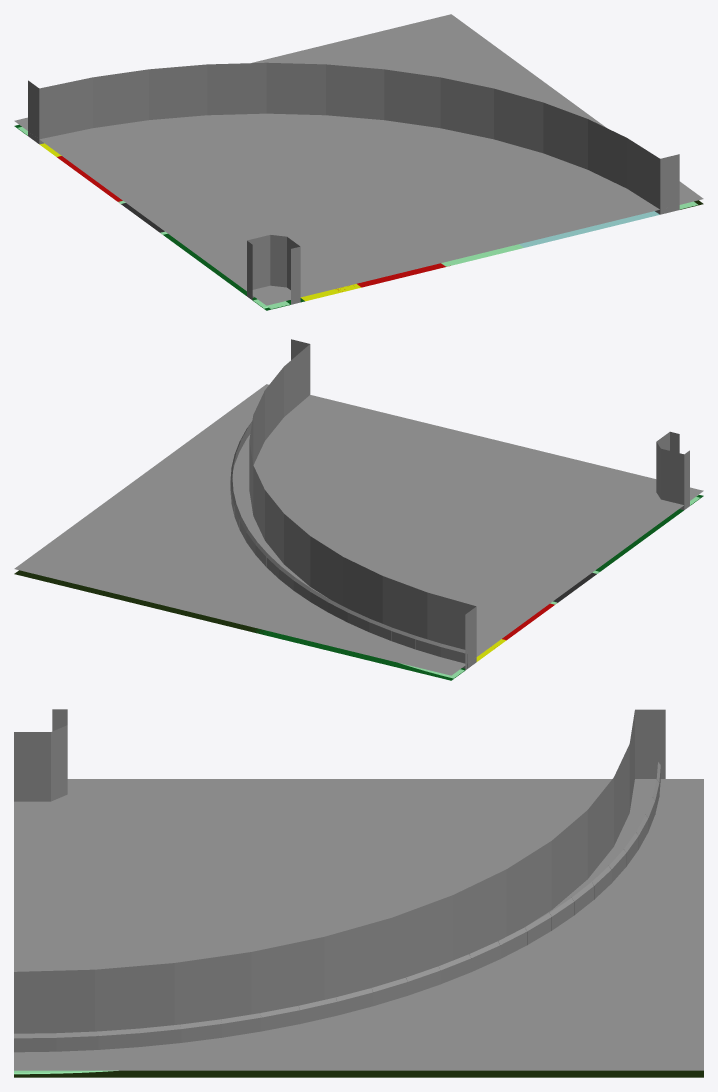
The model's file is RT TURN V01 T02 QRT SNAP.FBX.
3 views of the same model, one above another, from view 1: azimuth 30°, elevation 25°; view 2: azimuth 150°, elevation 25°; view 3: azimuth 270°, elevation 25° (orthographic). The views are drawn at different scales.
Visible parts, largest first — view 1: RT TURN V01 T02 QRT SNAP, RT TURN V01 T02 COLL OUT, RT TURN V01 T02 COLL IN, RT TURN V01 T02 HI, RT TURN V01 T02 NAV ColAsp C01-C02, RT TURN V01 T02 NAV Grass, RT TURN V01 T02 LOW; view 2: RT TURN V01 T02 QRT SNAP, RT TURN V01 T02 COLL OUT, RT TURN V01 T02 Fence Shared, RT TURN V01 T02 COLL IN, RT TURN V01 T02 NAV Grass, RT TURN V01 T02 RubW LOW, RT TURN V01 T02 HI; view 3: RT TURN V01 T02 QRT SNAP, RT TURN V01 T02 COLL OUT, RT TURN V01 T02 Fence Shared, RT TURN V01 T02 HI, RT TURN V01 T02 COLL IN, RT TURN V01 T02 LOW, RT TURN V01 T02 RubW HI.
Boxes of the visible parts, x1,y1,x2,y2 form: RT TURN V01 T02 QRT SNAP: (14,14,703,305); RT TURN V01 T02 COLL OUT: (28,62,679,214); RT TURN V01 T02 COLL IN: (247,235,300,304); RT TURN V01 T02 HI: (446,200,703,265); RT TURN V01 T02 NAV ColAsp C01-C02: (82,175,450,287); RT TURN V01 T02 NAV Grass: (14,125,304,310); RT TURN V01 T02 LOW: (447,200,702,265); RT TURN V01 T02 QRT SNAP: (14,384,703,675); RT TURN V01 T02 COLL OUT: (249,339,476,670); RT TURN V01 T02 Fence Shared: (230,421,465,668); RT TURN V01 T02 COLL IN: (656,431,689,509); RT TURN V01 T02 NAV Grass: (254,495,703,680); RT TURN V01 T02 RubW LOW: (233,438,476,667); RT TURN V01 T02 HI: (14,570,267,635); RT TURN V01 T02 QRT SNAP: (14,779,703,1070); RT TURN V01 T02 COLL OUT: (14,709,665,1033); RT TURN V01 T02 Fence Shared: (14,762,660,1052); RT TURN V01 T02 HI: (14,1070,703,1077); RT TURN V01 T02 COLL IN: (14,709,67,801); RT TURN V01 T02 LOW: (14,1070,703,1077); RT TURN V01 T02 RubW HI: (543,779,656,916).
Size of the model in its own units: 90 by 11 by 90.
